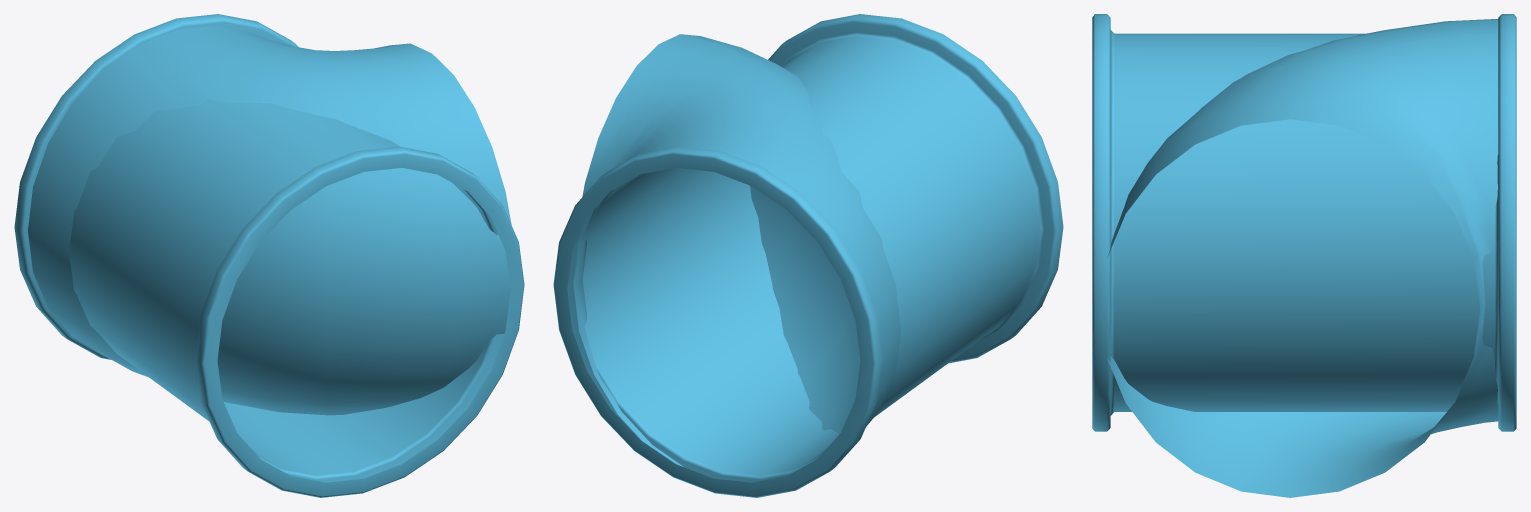
File: Module_PipeRotation2.fbx
3 views of the same model, side by side, from view 1: azimuth 30°, elevation 25°; view 2: azimuth 150°, elevation 25°; view 3: azimuth 270°, elevation 25° (orthographic). The views are drawn at different scales.
Visible parts, largest first — view 1: Pipe_Turn1, Pipe_Verticle1; view 2: Pipe_Verticle1, Pipe_Turn1; view 3: Pipe_Verticle1, Pipe_Turn1.
Boxes of the visible parts, x1,y1,x2,y2 form: Pipe_Turn1: [28, 25, 511, 415]; Pipe_Verticle1: [14, 14, 524, 497]; Pipe_Verticle1: [553, 14, 1063, 497]; Pipe_Turn1: [574, 34, 901, 466]; Pipe_Verticle1: [1092, 14, 1516, 431]; Pipe_Turn1: [1107, 19, 1498, 497].
Size of the model in its own units: 2.43 by 2.43 by 2.46.
